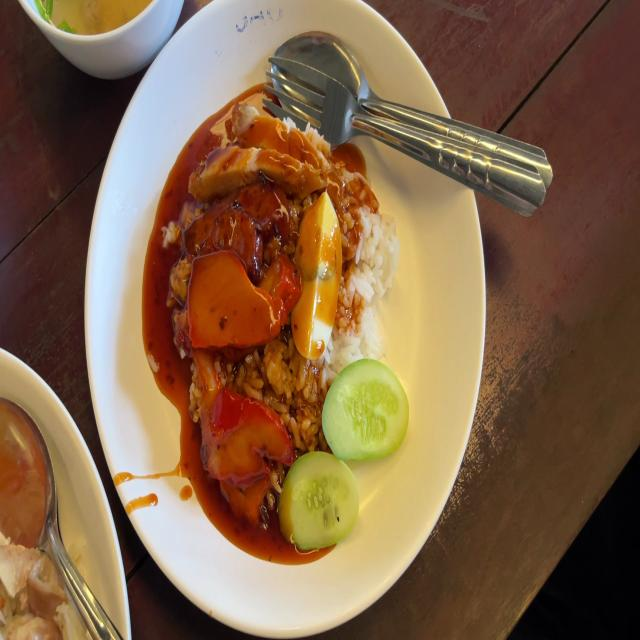01boiled_egg: (293, 193, 342, 359)
01chainese_sausage: (185, 191, 294, 263)
01crispy_pork: (186, 106, 330, 198)
01red_pork: (197, 391, 293, 522), (189, 252, 300, 347)
01red_pork_and_crispy_pork: (165, 102, 413, 556)
chicken_rice: (0, 512, 90, 640)
cucumber: (322, 356, 412, 461), (280, 452, 361, 549)
